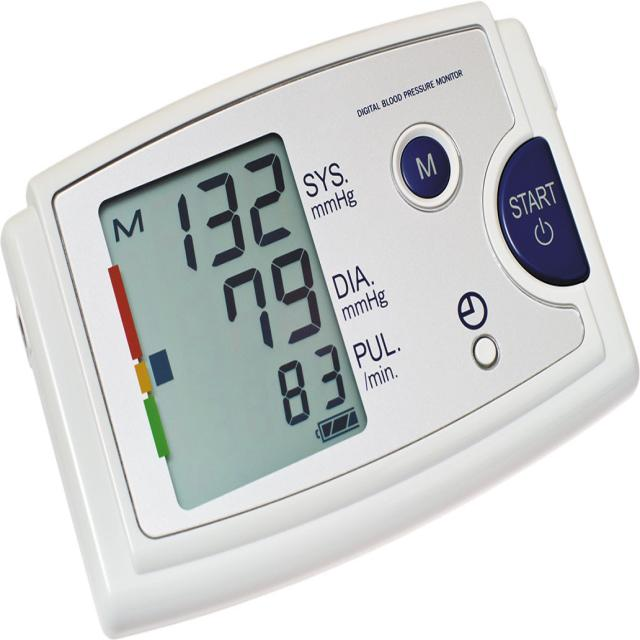dia: (206, 240, 343, 368)
pul: (258, 336, 365, 430)
ssd: (86, 131, 379, 513)
sys: (154, 141, 320, 281)
